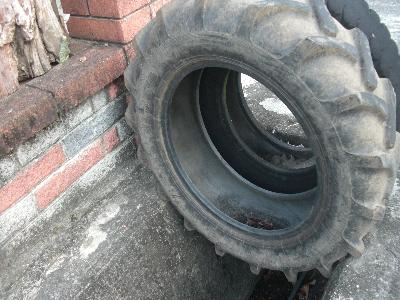tire: (122, 1, 398, 283)
